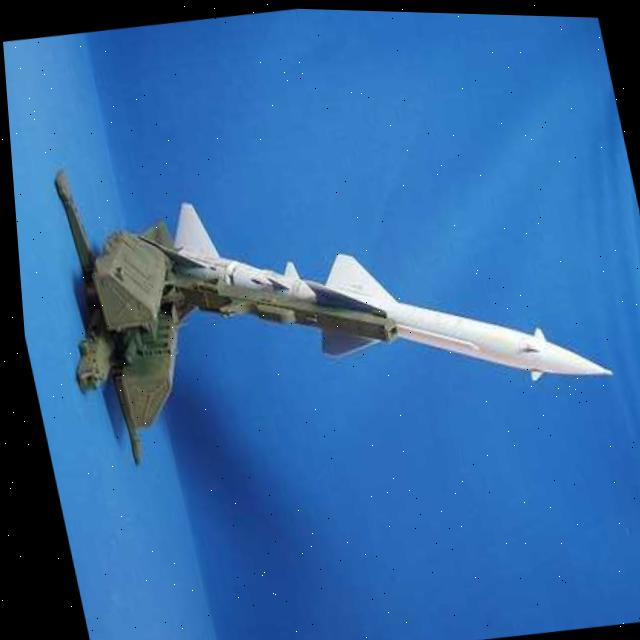missile: (135, 140, 616, 437)
